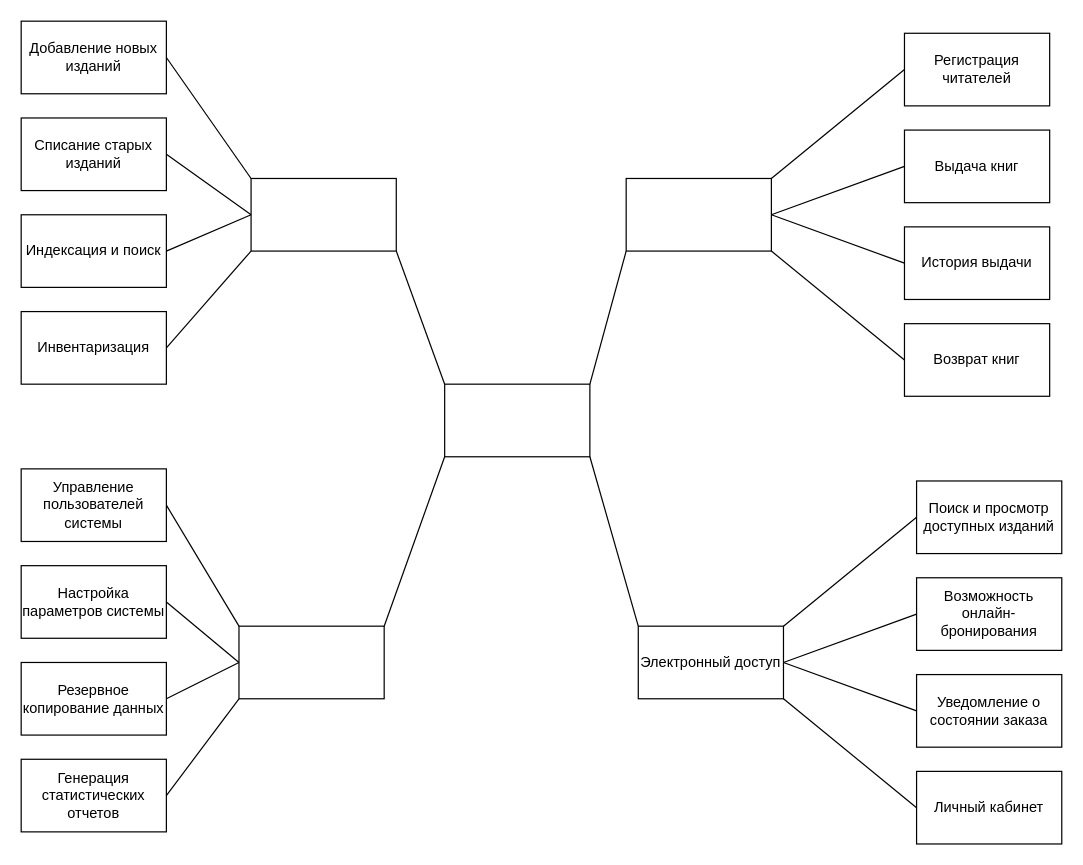
Image size: 1083x865. Some labels were removed from this diagram. The centre of each missing label's shape, as x and y in pixels:
"Администрирование" goes at (x=311, y=662).
"Информационная система библиотеки" goes at (x=516, y=420).
"Обслуживание читателей" goes at (x=698, y=214).
"Управление фондом" goes at (x=323, y=214).
